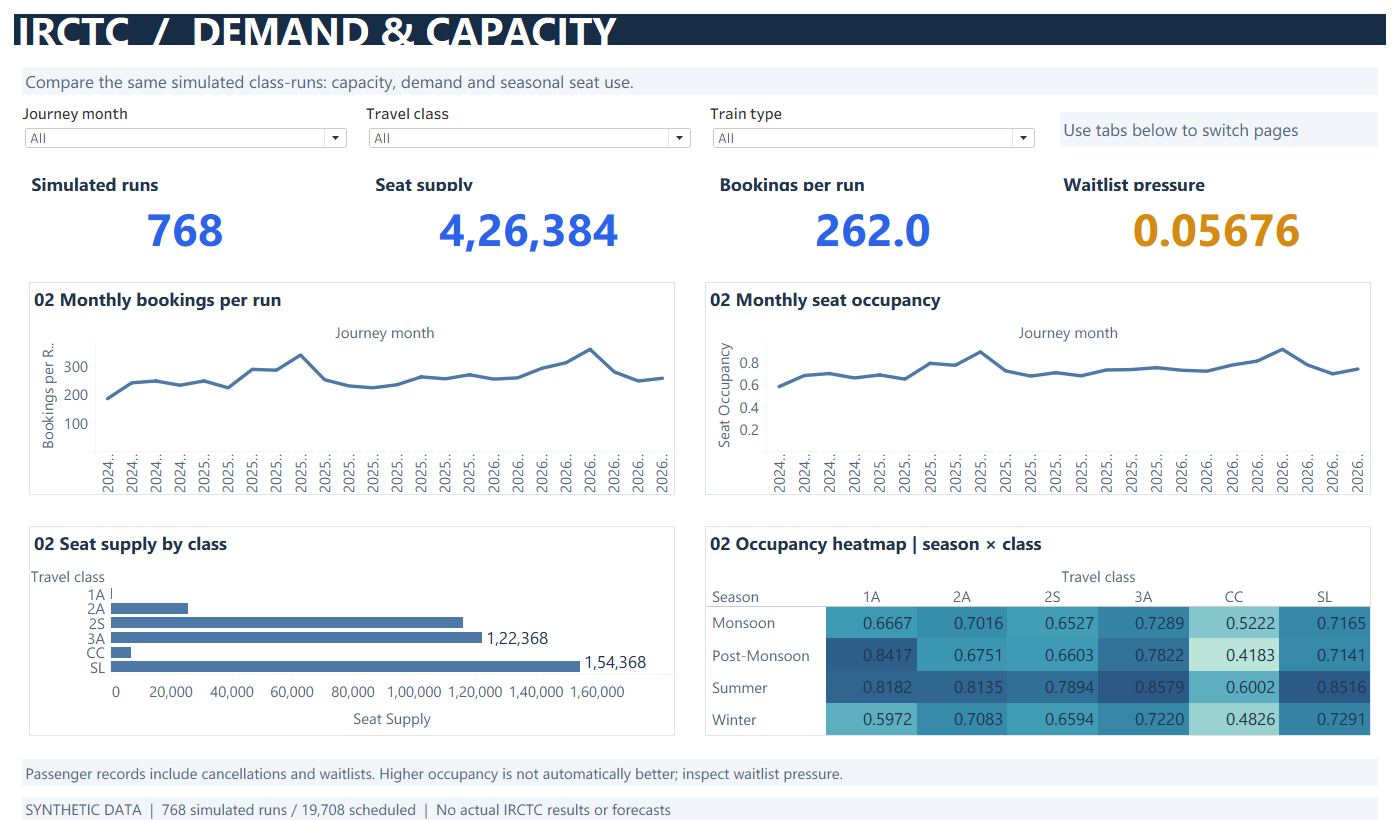

What the dashboard file says about the page in this screenshot:
{"tool":"tableau","page":{"name":"02 Demand and capacity","canvas":[1400,820],"ordinal":1},"visuals":[{"type":"text","box":[0,0,1400,58]},{"type":"text","box":[22,66,1356,28]},{"type":"parameter","param":"[Parameters].[Journey month]","box":[22,102,328,53]},{"type":"parameter","param":"[Parameters].[Travel class]","box":[366,102,328,53]},{"type":"parameter","param":"[Parameters].[Train type]","box":[710,102,328,53]},{"type":"text","box":[1060,111,318,35]},{"type":"text","box":[22,168,327,27]},{"type":"text","box":[366,168,327,27]},{"type":"text","box":[710,168,327,27]},{"type":"text","box":[1054,168,327,27]},{"type":"worksheet","title":"02 KPI Simulated runs","mark":"Text","box":[22,195,327,61]},{"type":"worksheet","title":"02 KPI Seat supply","mark":"Text","box":[366,195,327,61]},{"type":"worksheet","title":"02 KPI Bookings per run","mark":"Text","box":[710,195,327,61]},{"type":"worksheet","title":"02 KPI Waitlist pressure","mark":"Text","box":[1054,195,327,61]},{"type":"worksheet","title":"02 Monthly bookings per run","mark":"Line","rows":["Bookings per Run"],"cols":["Month"],"box":[22,272,660,225]},{"type":"worksheet","title":"02 Monthly seat occupancy","mark":"Line","rows":["Seat Occupancy"],"cols":["Month"],"box":[698,272,680,225]},{"type":"worksheet","title":"02 Seat supply by class","mark":"Bar","rows":["TravelClass"],"cols":["Seat Supply"],"box":[22,513,660,222]},{"type":"worksheet","title":"02 Occupancy heatmap | season × class","mark":"Square","rows":["Season"],"cols":["TravelClass"],"box":[698,513,680,222]},{"type":"text","box":[22,751,1356,27]},{"type":"text","box":[22,788,1356,23]}]}

Visuals, with their boxes in screenshot pixels (x1, y1, x2, y2), scaled from the page's 1400x820 canvas onto the 1400x820 screenshot:
text: 0:0:1399:58
text: 22:66:1378:94
parameter: 22:102:350:155
parameter: 366:102:694:155
parameter: 710:102:1038:155
text: 1060:111:1378:146
text: 22:168:349:195
text: 366:168:693:195
text: 710:168:1037:195
text: 1054:168:1381:195
"02 KPI Simulated runs" worksheet (Text marks): 22:195:349:256
"02 KPI Seat supply" worksheet (Text marks): 366:195:693:256
"02 KPI Bookings per run" worksheet (Text marks): 710:195:1037:256
"02 KPI Waitlist pressure" worksheet (Text marks): 1054:195:1381:256
"02 Monthly bookings per run" worksheet (Line marks): 22:272:682:497
"02 Monthly seat occupancy" worksheet (Line marks): 698:272:1378:497
"02 Seat supply by class" worksheet (Bar marks): 22:513:682:735
"02 Occupancy heatmap | season × class" worksheet (Square marks): 698:513:1378:735
text: 22:751:1378:778
text: 22:788:1378:811
